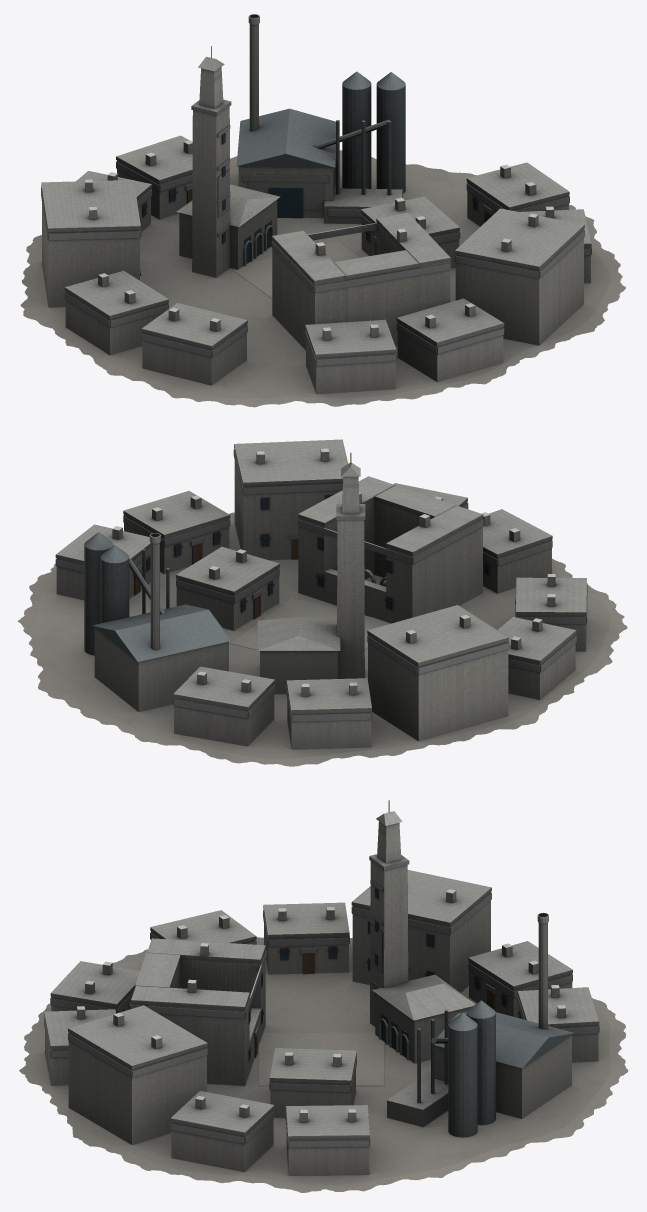
File: modern-town-medium-a-maghreb.glb
3 views of the same model, one above another, from view 1: azimuth 30°, elevation 25°; view 2: azimuth 150°, elevation 25°; view 3: azimuth 270°, elevation 25° (orthographic).
Visible parts, largest first — view 1: LOD0; view 2: LOD0; view 3: LOD0.
Part boxes in pixels (x1=…): LOD0: x1=20, y1=14, x2=625, y2=407; LOD0: x1=18, y1=439, x2=627, y2=766; LOD0: x1=19, y1=800, x2=628, y2=1192.
Size of what is drawn, in the model's own units: 5.96 by 2.4 by 5.91.
3 materials, 3 textured.
